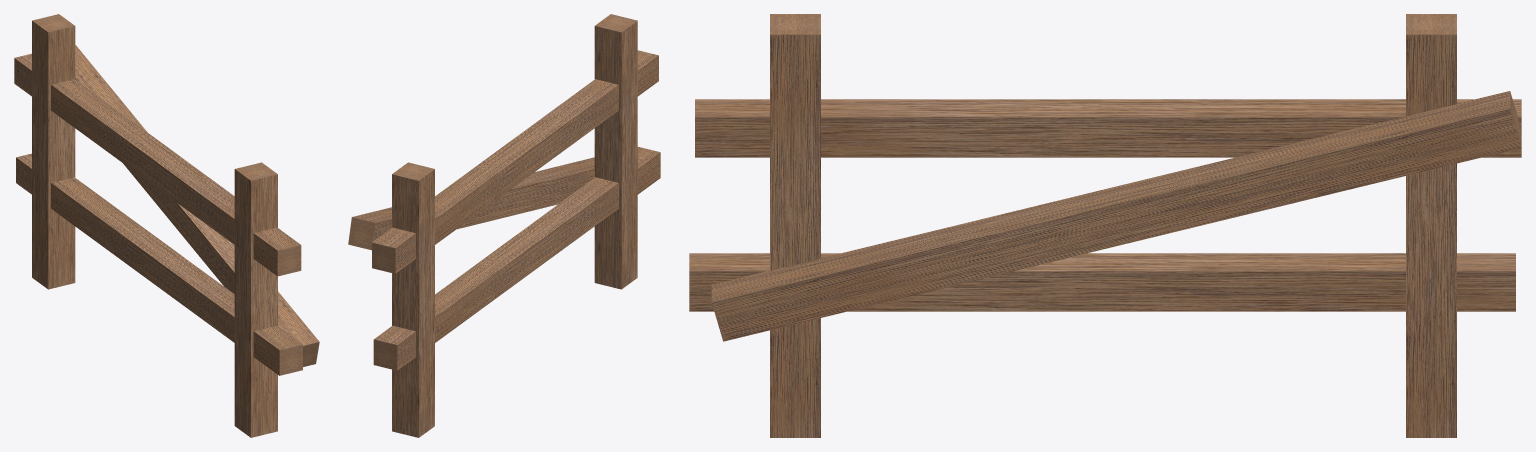
Rendered from VallaProyecto.fbx.
3 views of the same model, side by side, from view 1: azimuth 30°, elevation 25°; view 2: azimuth 150°, elevation 25°; view 3: azimuth 270°, elevation 25° (orthographic). The views are drawn at different scales.
Visible parts, largest first — view 1: Box059, Box060, Box057, Box058, Box061; view 2: Box060, Box059, Box057, Box058, Box061; view 3: Box061, Box059, Box060, Box057, Box058.
Part boxes in pixels (x1,y1,x2,y2): Box059: [14, 53, 301, 276]; Box060: [16, 153, 302, 375]; Box057: [234, 162, 277, 437]; Box058: [32, 14, 75, 289]; Box061: [74, 45, 319, 366]; Box060: [373, 146, 660, 370]; Box059: [372, 50, 658, 273]; Box057: [594, 14, 637, 289]; Box058: [392, 162, 434, 437]; Box061: [348, 157, 594, 250]; Box061: [711, 91, 1521, 341]; Box059: [695, 99, 1521, 157]; Box060: [689, 253, 1515, 311]; Box057: [770, 14, 820, 437]; Box058: [1406, 14, 1456, 437].
Bounding box in the file's own units: 14.27 × 70 × 131.
